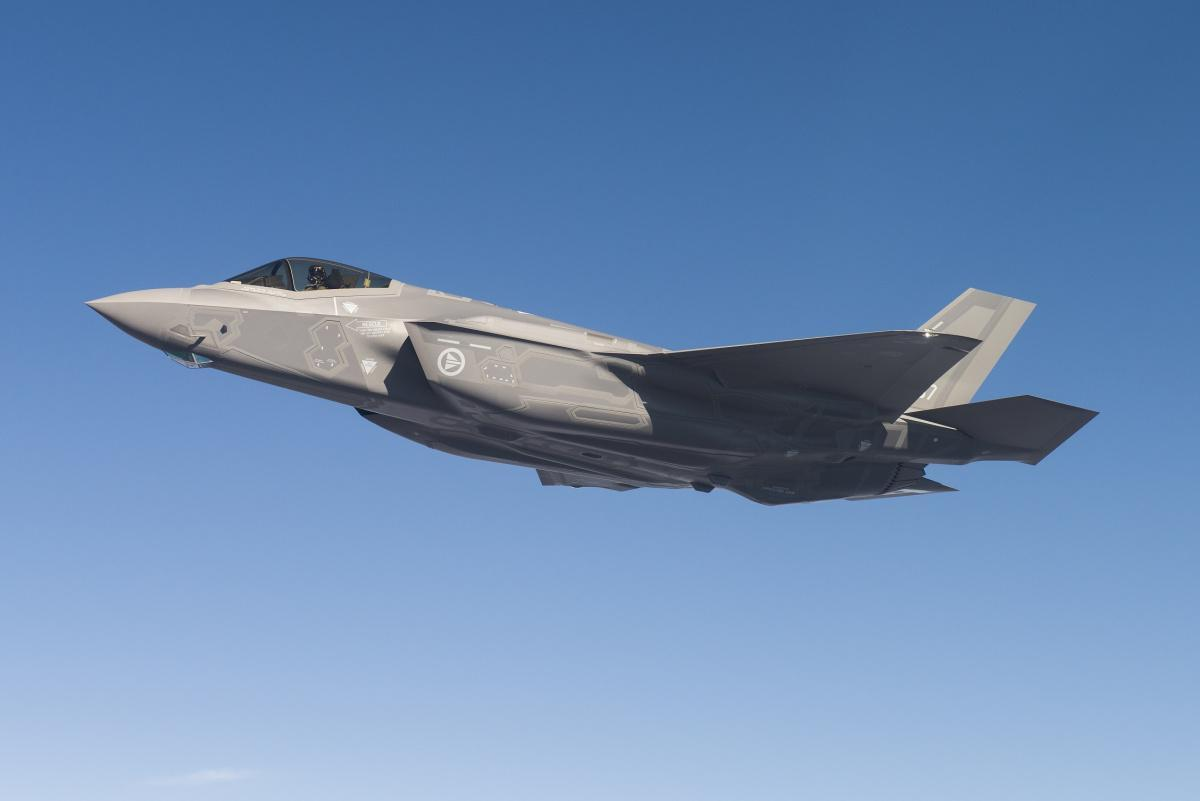airplane: (73, 234, 1099, 519)
